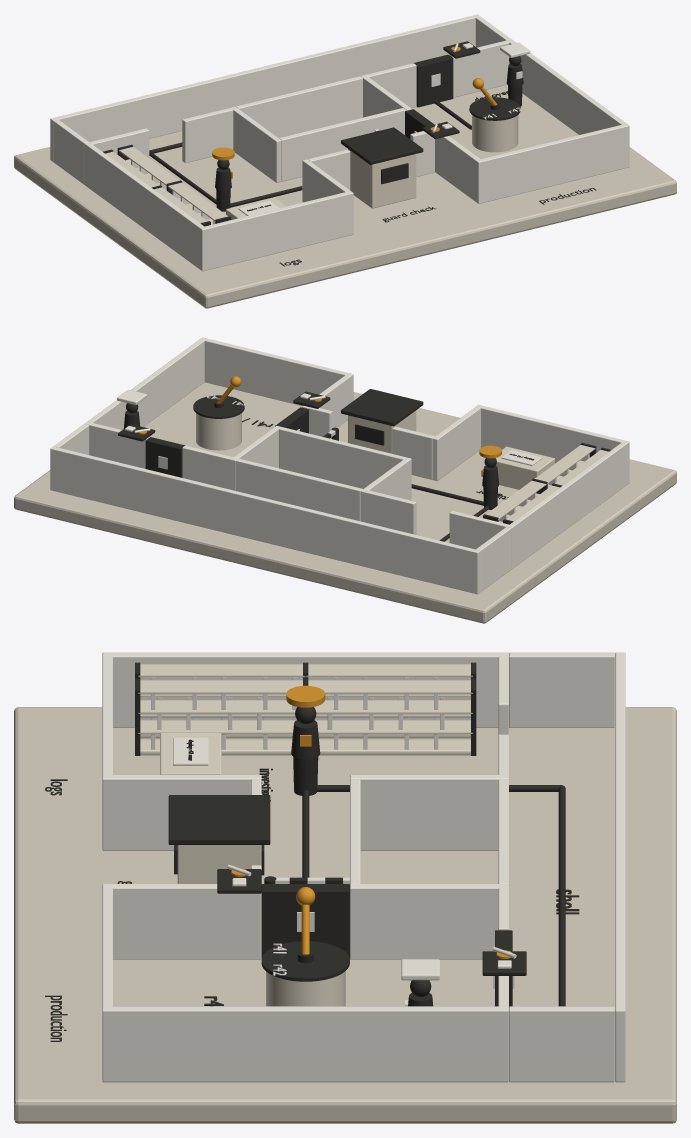
3 views of the same model, one above another, from view 1: azimuth 30°, elevation 25°; view 2: azimuth 150°, elevation 25°; view 3: azimuth 270°, elevation 25° (orthographic). The views are drawn at different scales.
Visible parts, largest first — view 1: Plinth, Passage_wallN, Logs_wallS, Release_wallS, Logs_wallOuter, Passage_wallS, Release_wallOuter, Corridor_wallN, Check_booth, Logs_wallInnerN, Logs_wallN_b, Release_wallN_b (+17 smaller); view 2: Plinth, Passage_wallN, Logs_wallOuter, Release_wallS, Corridor_wallN, Passage_wallS, Logs_wallS, Release_wallOuter, Logs_wallInnerS, Logs_wallN_b, Check_roof, Release_wallN_b (+18 smaller); view 3: Plinth, Release_wallOuter, Release_wallInnerN, Release_wallInnerS, Logs_wallOuter, Logs_wallInnerN, Passage_endE, Passage_endW, Logs_wallInnerS, Check_roof, Lock_West_door, Passage_wallN (+27 smaller).
Part boxes in pixels (<box>): Plinth: <box>14,84,676,308</box>; Passage_wallN: <box>50,14,480,162</box>; Logs_wallS: <box>199,191,353,271</box>; Release_wallS: <box>475,124,629,203</box>; Logs_wallOuter: <box>84,142,207,270</box>; Passage_wallS: <box>236,76,362,137</box>; Release_wallOuter: <box>507,39,629,167</box>; Corridor_wallN: <box>279,108,406,181</box>; Check_booth: <box>348,149,416,208</box>; Logs_wallInnerN: <box>232,106,281,182</box>; Logs_wallN_b: <box>182,107,236,162</box>; Release_wallN_b: <box>449,39,511,97</box>; Plinth: <box>14,382,676,623</box>; Passage_wallN: <box>50,446,480,594</box>; Logs_wallOuter: <box>507,441,629,568</box>; Release_wallS: <box>200,337,353,405</box>; Corridor_wallN: <box>279,427,405,488</box>; Passage_wallS: <box>235,458,362,521</box>; Logs_wallS: <box>476,405,629,484</box>; Release_wallOuter: <box>85,338,206,429</box>; Logs_wallInnerS: <box>432,405,480,481</box>; Logs_wallN_b: <box>360,489,416,534</box>; Check_roof: <box>341,389,423,426</box>; Release_wallN_b: <box>84,421,149,468</box>; Plinth: <box>14,707,676,1123</box>; Release_wallOuter: <box>102,1006,508,1082</box>; Release_wallInnerN: <box>350,884,508,959</box>; Release_wallInnerS: <box>104,884,261,959</box>; Logs_wallOuter: <box>103,652,508,727</box>; Logs_wallInnerN: <box>350,775,508,850</box>; Passage_endE: <box>509,1006,614,1082</box>; Passage_endW: <box>509,652,614,727</box>; Logs_wallInnerS: <box>102,775,261,850</box>; Check_roof: <box>168,795,270,844</box>; Lock_West_door: <box>261,884,349,958</box>; Passage_wallN: <box>615,652,625,1082</box>.
Size of the model in its own units: 10.6 by 1.76 by 7.5.
